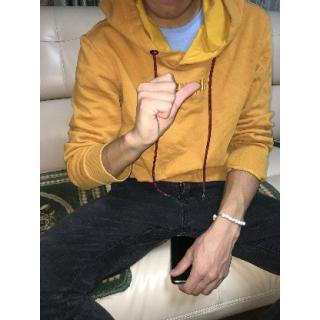WAW: (130, 71, 200, 142)
